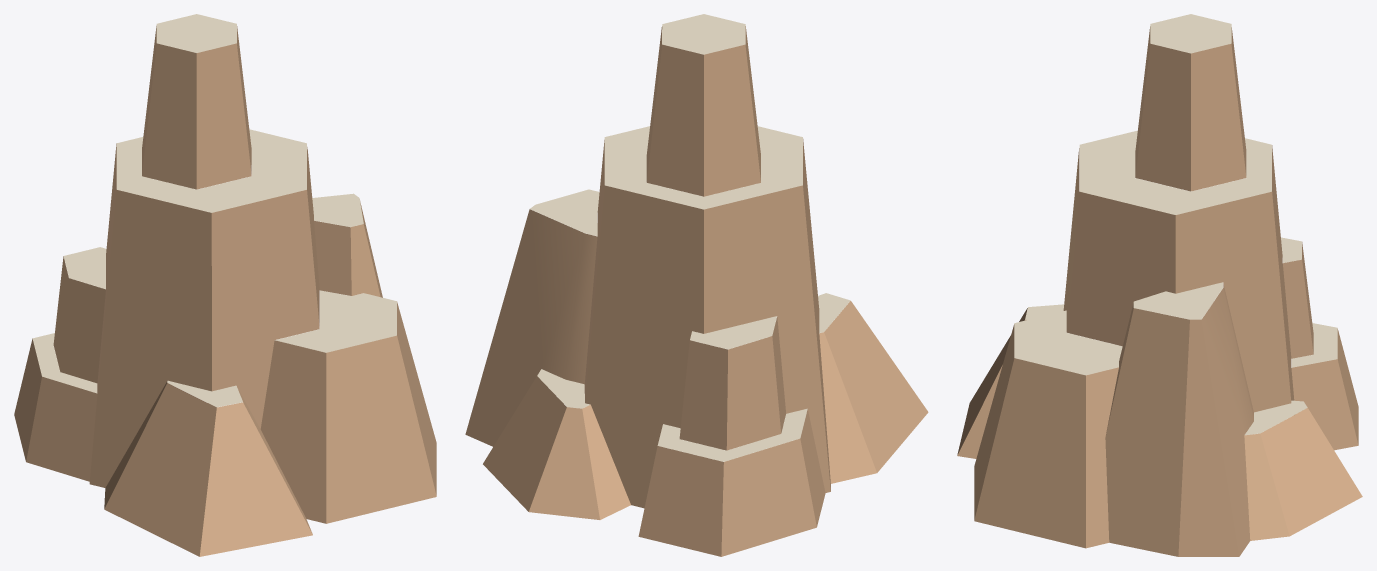
The model's file is formation-rock.glb.
3 renders of one model, left to right at view 1: azimuth 30°, elevation 25°; view 2: azimuth 150°, elevation 25°; view 3: azimuth 270°, elevation 25°, orthographic. The views are drawn at different scales.
Parts seen in each view (by area): view 1: formation_rock; view 2: formation_rock; view 3: formation_rock.
Part boxes in pixels (x1,y1,x2,y2): formation_rock: (14, 14, 436, 556); formation_rock: (465, 14, 928, 556); formation_rock: (957, 14, 1362, 556).
Bounding box in the file's own units: 1.06 × 1.22 × 1.07.
